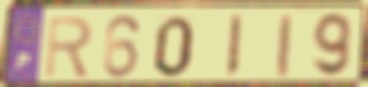0: (152, 14, 198, 79)
6: (102, 13, 143, 81)
9: (310, 11, 354, 79)
I: (223, 13, 246, 80), (276, 12, 294, 80)
R: (43, 15, 96, 81)
